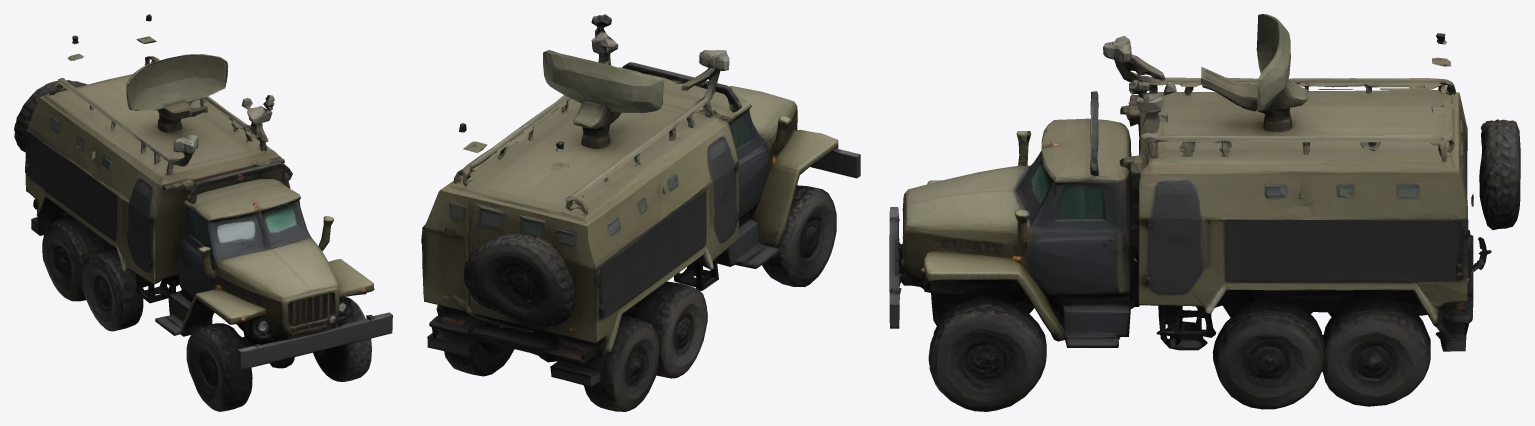
The model's file is e0254e61-7d0d-4c31-a4bd-62fcd2361c07.glb.
The picture shows the model from 3 angles, left to right: view 1: azimuth 30°, elevation 25°; view 2: azimuth 150°, elevation 25°; view 3: azimuth 270°, elevation 25°; orthographic projection. The views are drawn at different scales.
Visible parts, largest first — view 1: geometry_0; view 2: geometry_0; view 3: geometry_0.
Boxes of the visible parts, bbox=[...] form: geometry_0: bbox=[14, 14, 392, 411]; geometry_0: bbox=[421, 14, 860, 411]; geometry_0: bbox=[889, 14, 1520, 411].
Bounding box in the file's own units: 0.3652 × 0.5787 × 0.9921.
1 material, 1 textured.
